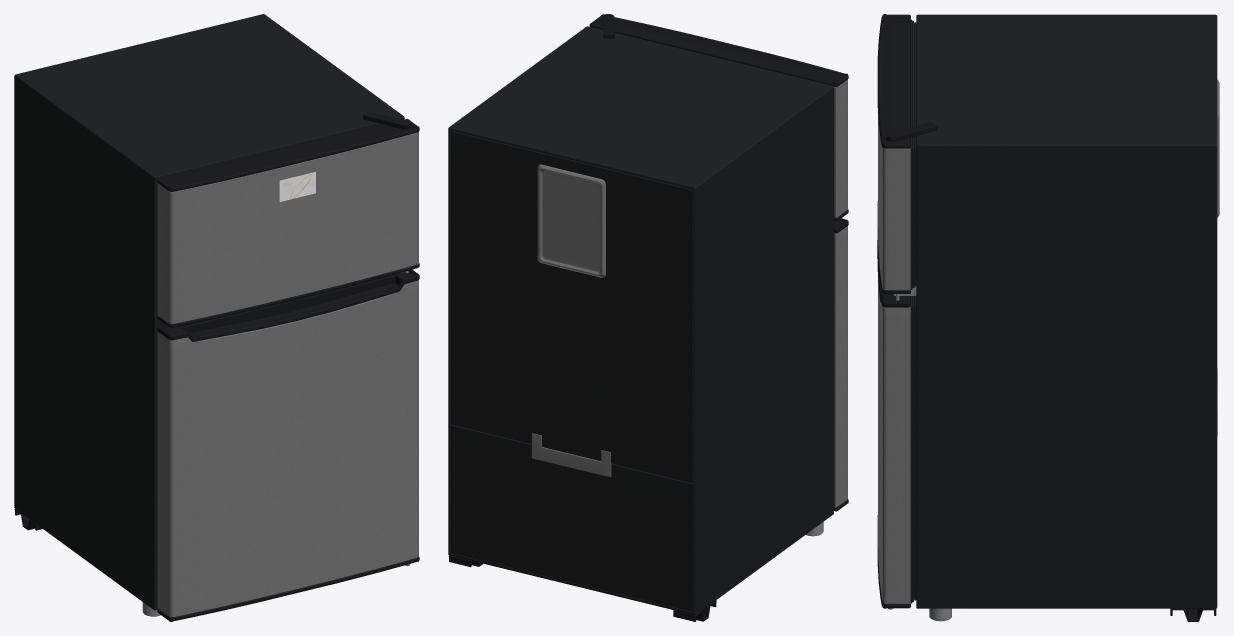
Rendered from ice-box.glb.
3 views of the same model, side by side, from view 1: azimuth 30°, elevation 25°; view 2: azimuth 150°, elevation 25°; view 3: azimuth 270°, elevation 25° (orthographic). The views are drawn at different scales.
Parts seen in each view (by area): view 1: DIGIT17304429_mid; view 2: DIGIT17304429_mid; view 3: DIGIT17304429_mid.
Part boxes in pixels (left/top/right/bottom): DIGIT17304429_mid: left=14, top=14, right=419, bottom=621; DIGIT17304429_mid: left=448, top=14, right=848, bottom=621; DIGIT17304429_mid: left=877, top=14, right=1219, bottom=621.
Bounding box in the file's own units: 0.4859 × 0.8331 × 0.5359.
Materials: 1 (1 with a texture image).
